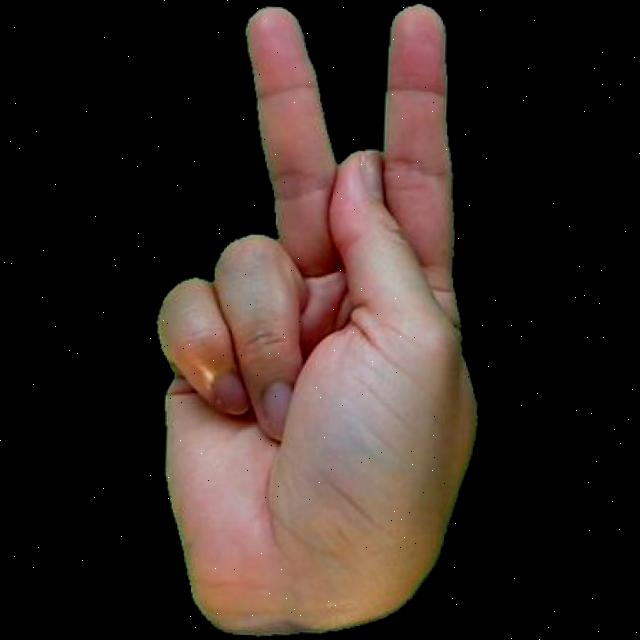k: (139, 0, 496, 640)
